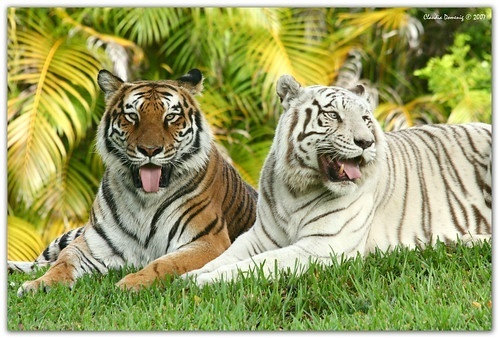tigre: (175, 72, 492, 292), (8, 65, 253, 298)
